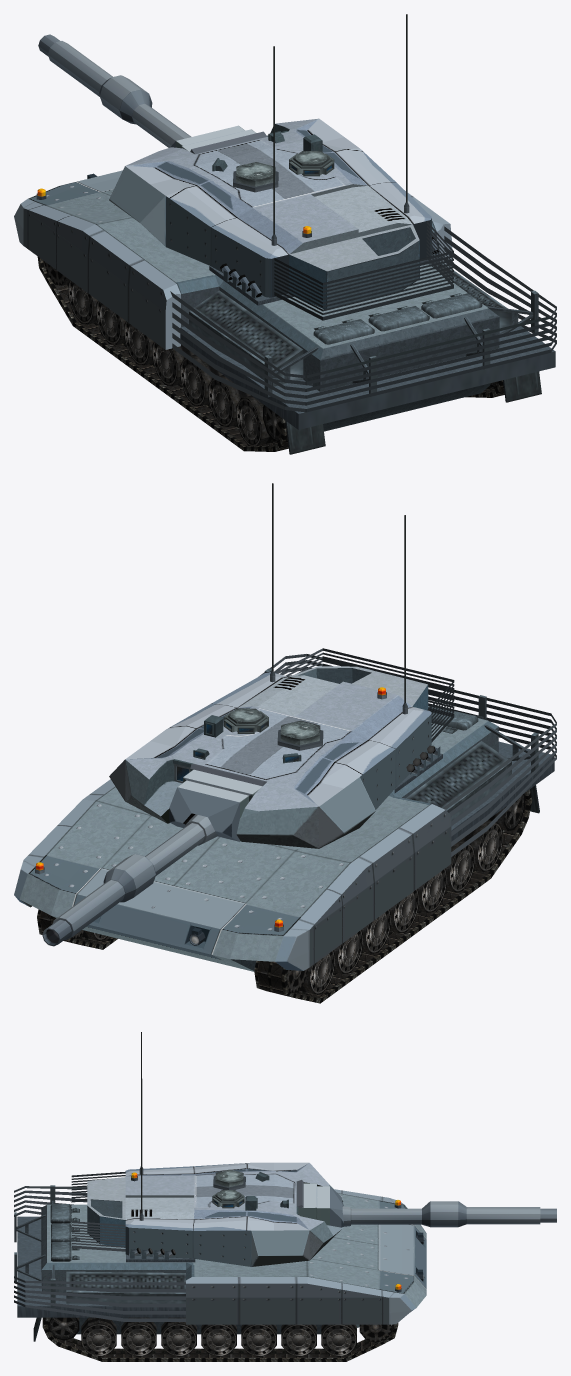
The model's file is revolution.fbx.
3 renders of one model, top to bottom at view 1: azimuth 30°, elevation 25°; view 2: azimuth 150°, elevation 25°; view 3: azimuth 270°, elevation 25°, orthographic. The views are drawn at different scales.
Parts seen in each view (by area): view 1: polySurface492, polySurface490, polySurface491, polySurface483, polySurface467, polySurface468, polySurface469, polySurface470, polySurface472, polySurface471, polySurface473; view 2: polySurface492, polySurface490, polySurface491, polySurface483, polySurface467, polySurface468, polySurface473, polySurface469, polySurface470, polySurface471, polySurface472, polySurface417; view 3: polySurface492, polySurface490, polySurface491, polySurface417, polySurface17, polySurface459, polySurface460, polySurface464, polySurface461, polySurface462, polySurface463, polySurface451 (+1 smaller).
Boxes of the visible parts, x1,y1,x2,y2 form: polySurface492: (14,170,556,454); polySurface490: (109,14,453,320); polySurface491: (38,34,256,151); polySurface483: (37,256,288,451); polySurface467: (236,395,274,446); polySurface468: (208,375,250,426); polySurface469: (180,354,222,406); polySurface470: (152,342,194,385); polySurface472: (96,301,125,344); polySurface471: (124,321,153,365); polySurface473: (68,280,97,324); polySurface492: (14,654,556,971); polySurface490: (109,483,454,848); polySurface491: (42,769,261,946); polySurface483: (254,789,532,1003); polySurface467: (460,820,502,871); polySurface468: (445,840,474,892); polySurface473: (299,950,334,994); polySurface469: (417,869,446,912); polySurface470: (389,889,418,933); polySurface471: (361,910,390,953); polySurface472: (333,930,362,973); polySurface417: (37,909,117,949); polySurface492: (14,1185,426,1341); polySurface490: (71,1032,342,1266); polySurface491: (298,1183,556,1227); polySurface417: (42,1317,398,1361); polySurface17: (81,1317,116,1356); polySurface459: (121,1317,156,1356); polySurface460: (161,1317,196,1356); polySurface464: (321,1324,356,1356); polySurface461: (201,1324,236,1356); polySurface462: (241,1324,276,1356); polySurface463: (281,1324,316,1356); polySurface451: (48,1317,79,1340).
Size of the model in its own units: 59.09 by 72.9 by 136.
